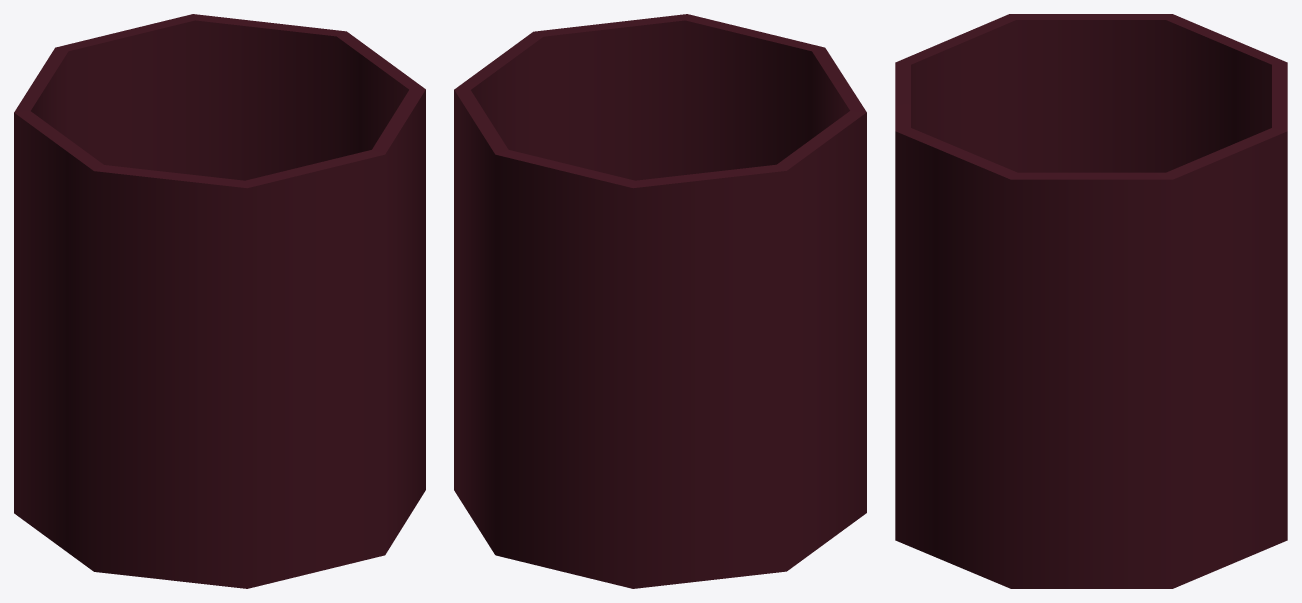
File: Itr_Lamp_Cap2_04.FBX
3 renders of one model, left to right at view 1: azimuth 30°, elevation 25°; view 2: azimuth 150°, elevation 25°; view 3: azimuth 270°, elevation 25°, orthographic. The views are drawn at different scales.
Visible parts, largest first — view 1: Itr_Lamp_Cap2_04; view 2: Itr_Lamp_Cap2_04; view 3: Itr_Lamp_Cap2_04.
Part boxes in pixels (box(x1,y1,x2,y2)): Itr_Lamp_Cap2_04: box(14, 14, 425, 588); Itr_Lamp_Cap2_04: box(454, 14, 866, 588); Itr_Lamp_Cap2_04: box(895, 14, 1287, 588).
Size of the model in its own units: 7.69 by 8.87 by 7.69.
